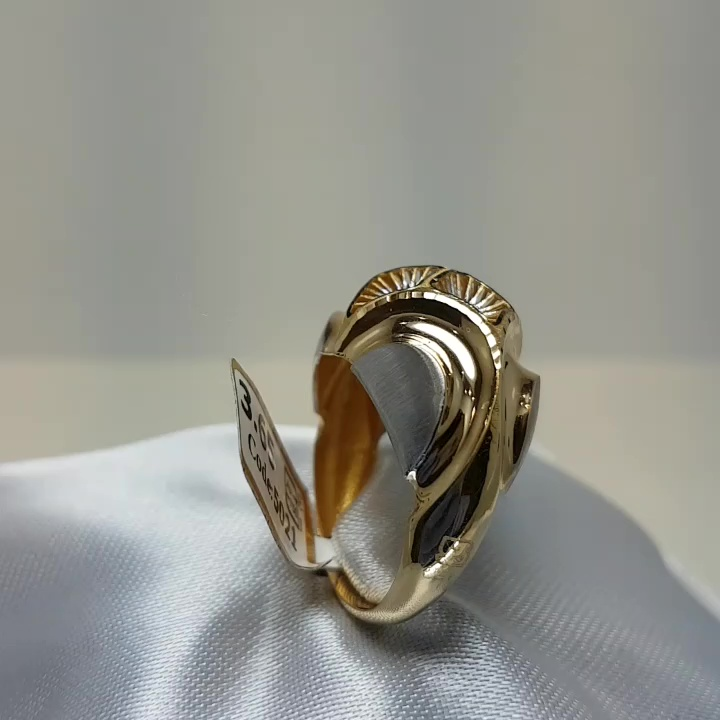Ring 2: (239, 221, 569, 640)
